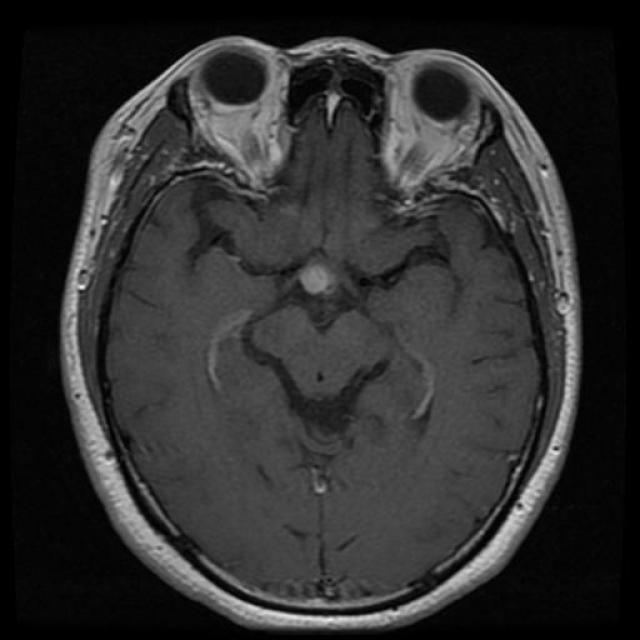pituitary: (292, 242, 351, 322)
